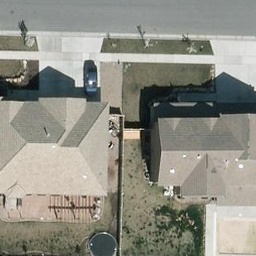car: (84, 61, 99, 100)
